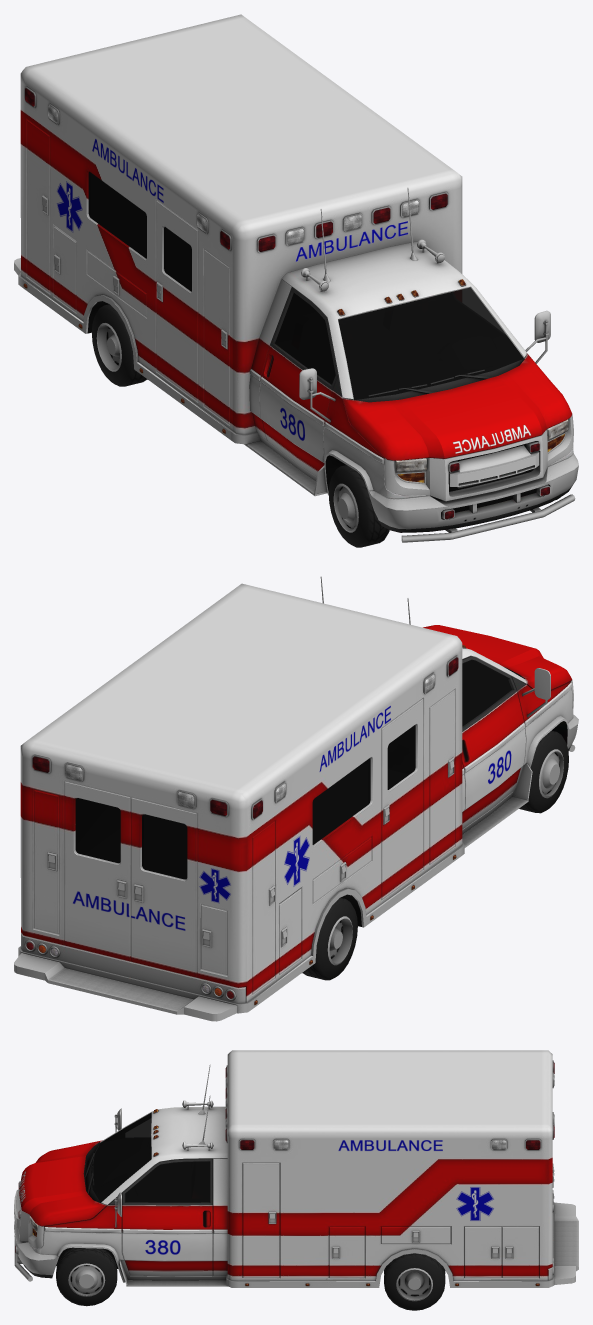
Rendered from ambulance.glb.
The picture shows the model from 3 angles, top to bottom: view 1: azimuth 30°, elevation 25°; view 2: azimuth 150°, elevation 25°; view 3: azimuth 270°, elevation 25°; orthographic projection. The views are drawn at different scales.
Visible parts, largest first — view 1: ambulance_ambulance_0, ambulance_glass_tex_0, ambulance_optics_tex_0, ambulance_decals_tex_0; view 2: ambulance_ambulance_0, ambulance_glass_tex_0, ambulance_decals_tex_0, ambulance_optics_tex_0; view 3: ambulance_ambulance_0, ambulance_glass_tex_0, ambulance_decals_tex_0, ambulance_optics_tex_0.
Boxes of the visible parts, left/top/right/bottom form: ambulance_ambulance_0: left=14, top=14, right=578, bottom=547; ambulance_glass_tex_0: left=88, top=171, right=523, bottom=400; ambulance_optics_tex_0: left=23, top=88, right=568, bottom=519; ambulance_decals_tex_0: left=57, top=138, right=530, bottom=453; ambulance_ambulance_0: left=14, top=576, right=578, bottom=1021; ambulance_glass_tex_0: left=75, top=661, right=511, bottom=879; ambulance_decals_tex_0: left=72, top=705, right=511, bottom=930; ambulance_optics_tex_0: left=26, top=645, right=465, bottom=1004; ambulance_ambulance_0: left=14, top=1050, right=578, bottom=1310; ambulance_glass_tex_0: left=91, top=1112, right=209, bottom=1202; ambulance_decals_tex_0: left=19, top=1140, right=493, bottom=1254; ambulance_optics_tex_0: left=15, top=1062, right=554, bottom=1285.
Size of the model in its own units: 2.22 by 2.2 by 5.9.
4 materials, 4 textured.
